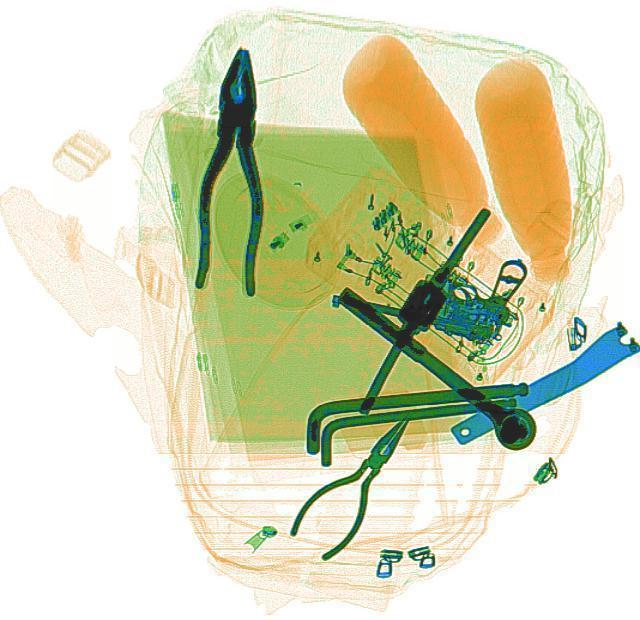Gun: (325, 222, 529, 348)
Pliers: (278, 398, 436, 564), (190, 45, 274, 297)
